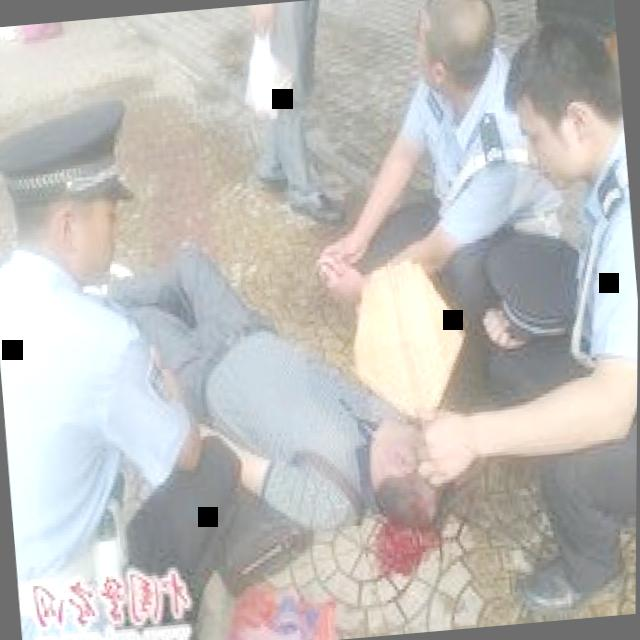Fall-Detected: (99, 188, 465, 565)
